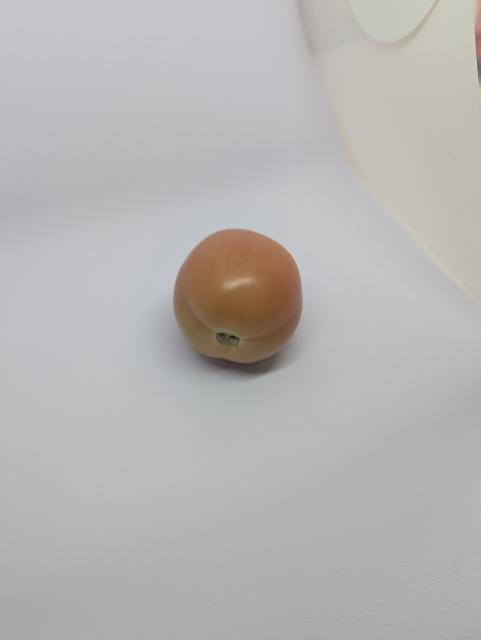turning: (164, 221, 313, 380)
